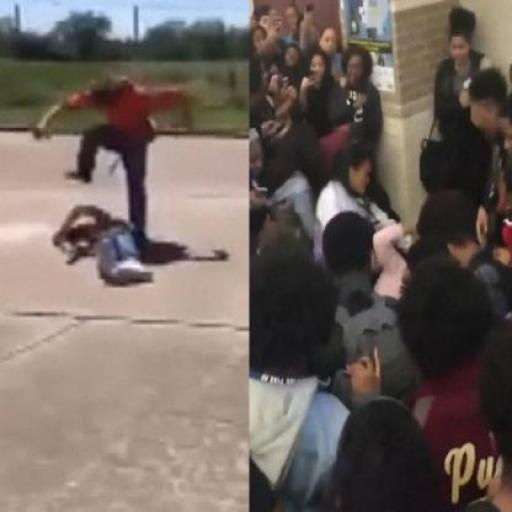Fighting: (257, 1, 512, 505), (24, 74, 228, 284)
